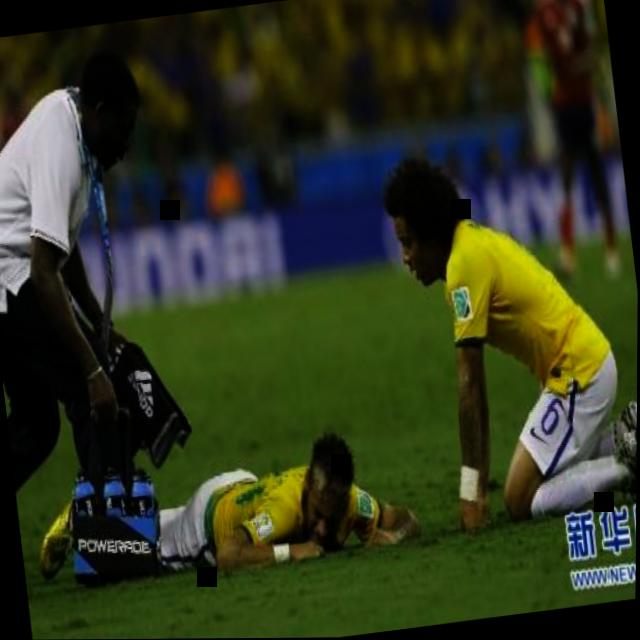Fall-Detected: (367, 115, 639, 528)
